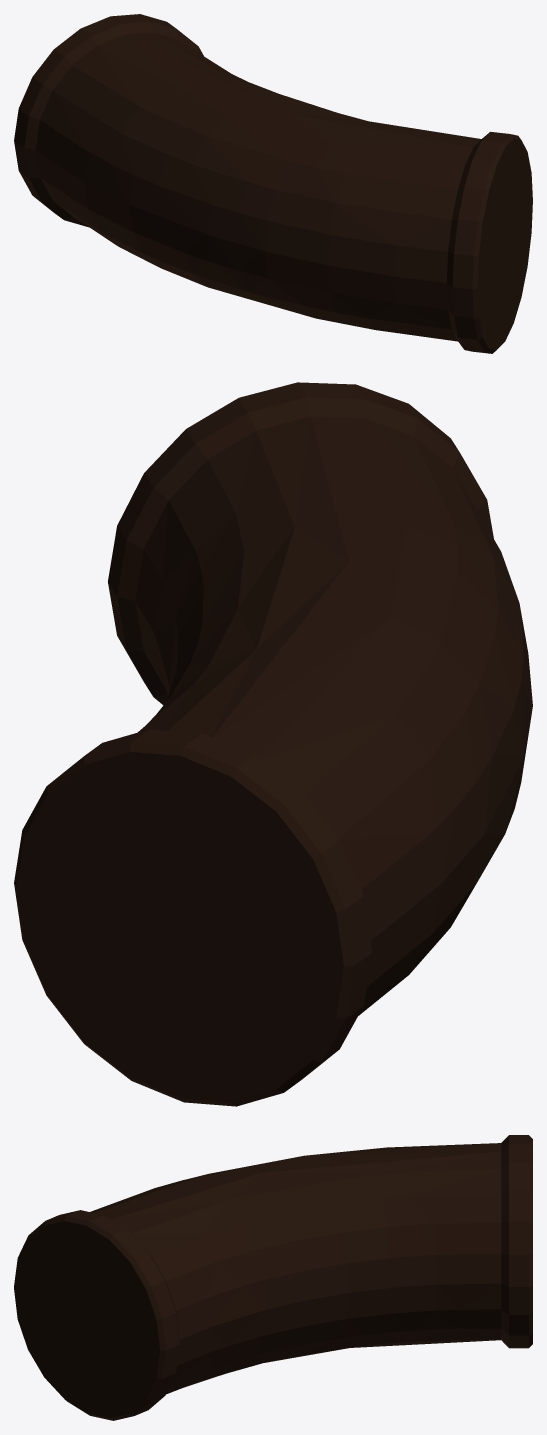
File: Pipe20b.obj
3 renders of one model, top to bottom at view 1: azimuth 30°, elevation 25°; view 2: azimuth 150°, elevation 25°; view 3: azimuth 270°, elevation 25°, orthographic. The views are drawn at different scales.
Visible parts, largest first — view 1: Pipe20b; view 2: Pipe20b; view 3: Pipe20b.
Boxes of the visible parts, x1,y1,x2,y2 form: Pipe20b: [14, 14, 532, 353]; Pipe20b: [14, 382, 532, 1106]; Pipe20b: [14, 1135, 532, 1420].
Size of the model in its own units: 0.0919 by 0.054 by 0.1306.
